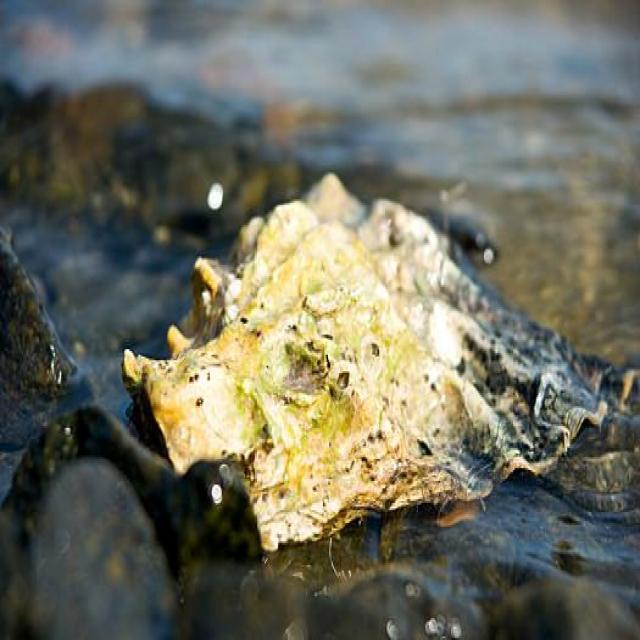Oyster- Indeterminate: (122, 205, 500, 554), (255, 177, 618, 490)
